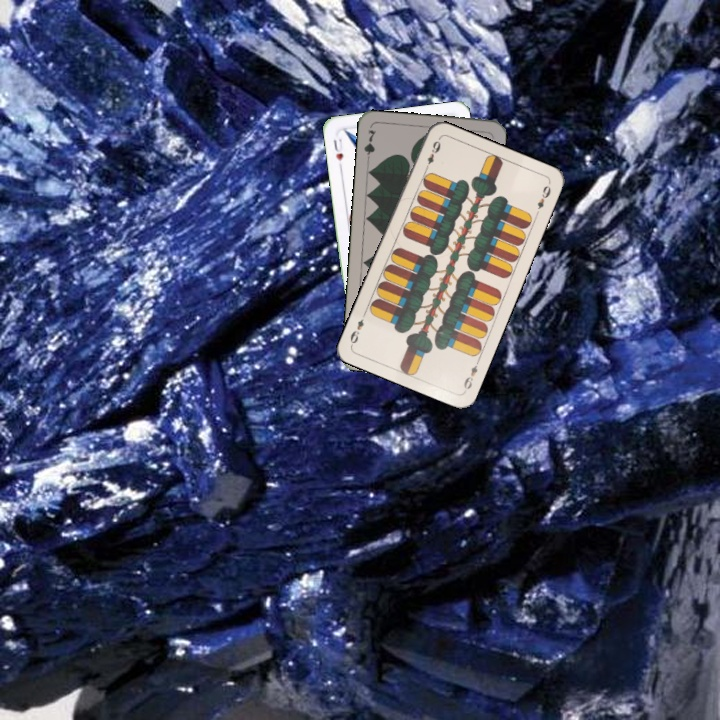E9: (421, 135, 443, 174), (460, 355, 482, 394)
G7: (360, 126, 379, 166)
HU: (329, 134, 346, 171)
